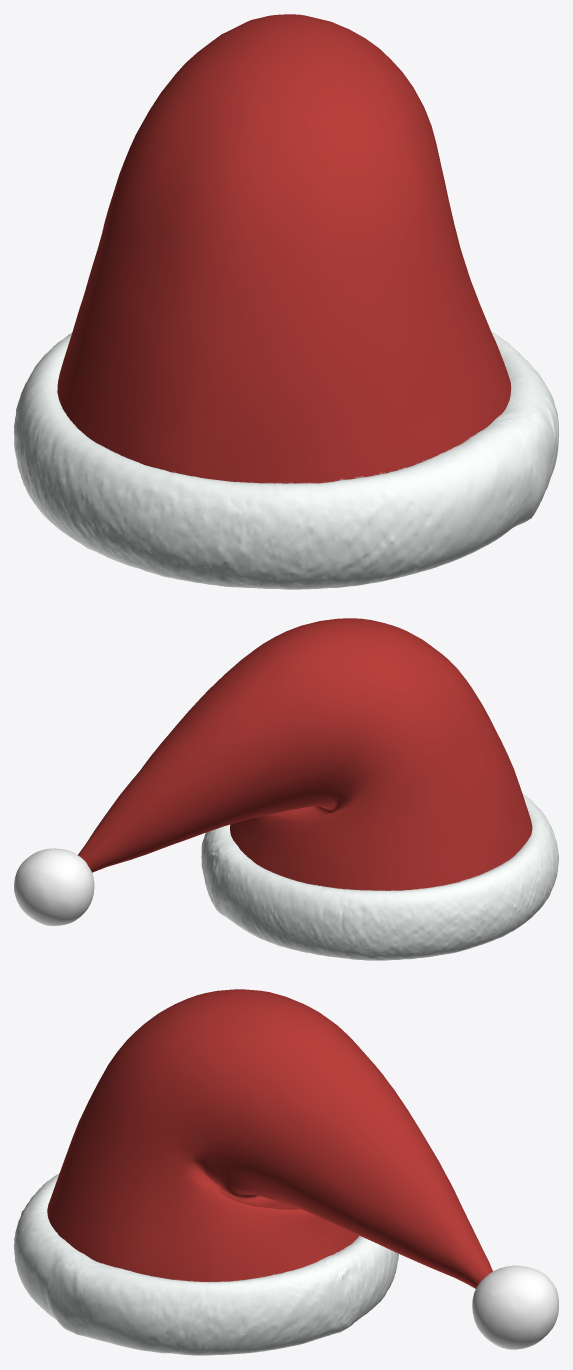
Rendered from santa_hat_AR.glb.
The picture shows the model from 3 angles, top to bottom: view 1: azimuth 30°, elevation 25°; view 2: azimuth 150°, elevation 25°; view 3: azimuth 270°, elevation 25°; orthographic projection. The views are drawn at different scales.
Parts seen in each view (by area): view 1: Santa_Hat_AR; view 2: Santa_Hat_AR; view 3: Santa_Hat_AR.
Part boxes in pixels (x1,y1,x2,y2): Santa_Hat_AR: (14, 14, 558, 589); Santa_Hat_AR: (14, 618, 558, 960); Santa_Hat_AR: (14, 989, 558, 1355).
Bounding box in the file's own units: 0.2749 × 0.1939 × 0.3255.
1 material, 1 textured.
